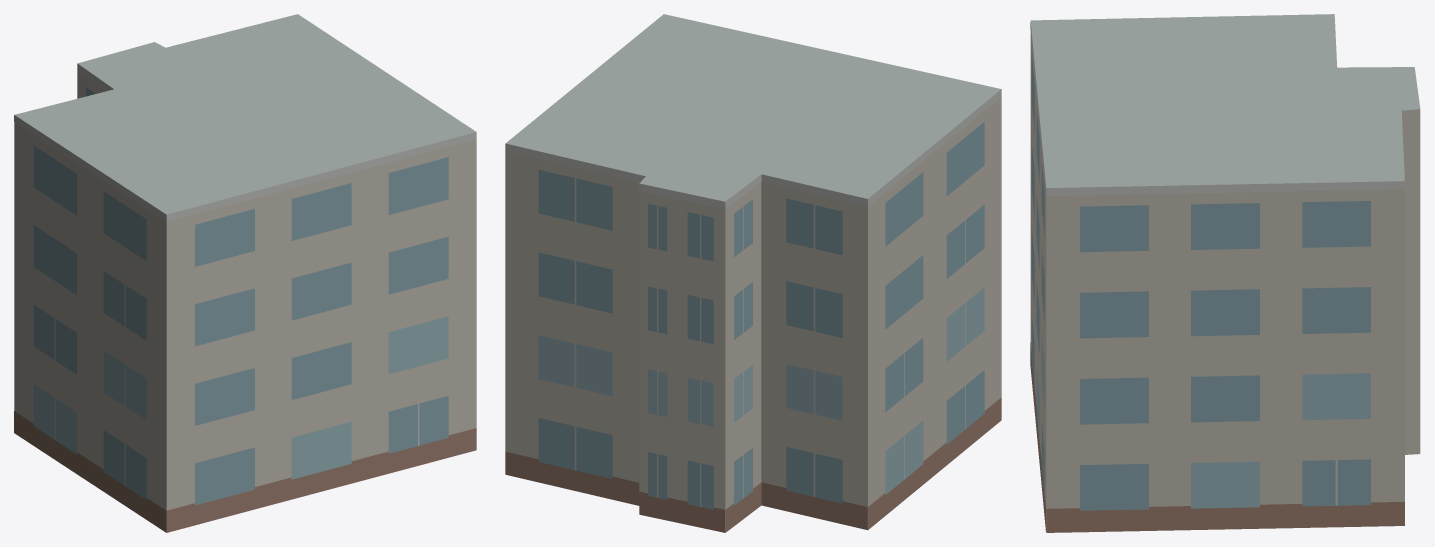
Rendered from survey-upis-32916556.glb.
The picture shows the model from 3 angles, left to right: view 1: azimuth 30°, elevation 25°; view 2: azimuth 150°, elevation 25°; view 3: azimuth 270°, elevation 25°; orthographic projection. The views are drawn at different scales.
Visible parts, largest first — view 1: survey-upis-32916556.tmp; view 2: survey-upis-32916556.tmp; view 3: survey-upis-32916556.tmp.
Part boxes in pixels (<box>): survey-upis-32916556.tmp: <box>14,14,476,532</box>; survey-upis-32916556.tmp: <box>505,14,1001,532</box>; survey-upis-32916556.tmp: <box>1030,14,1420,532</box>.
Bounding box in the file's own units: 11.43 × 10.55 × 10.82.
